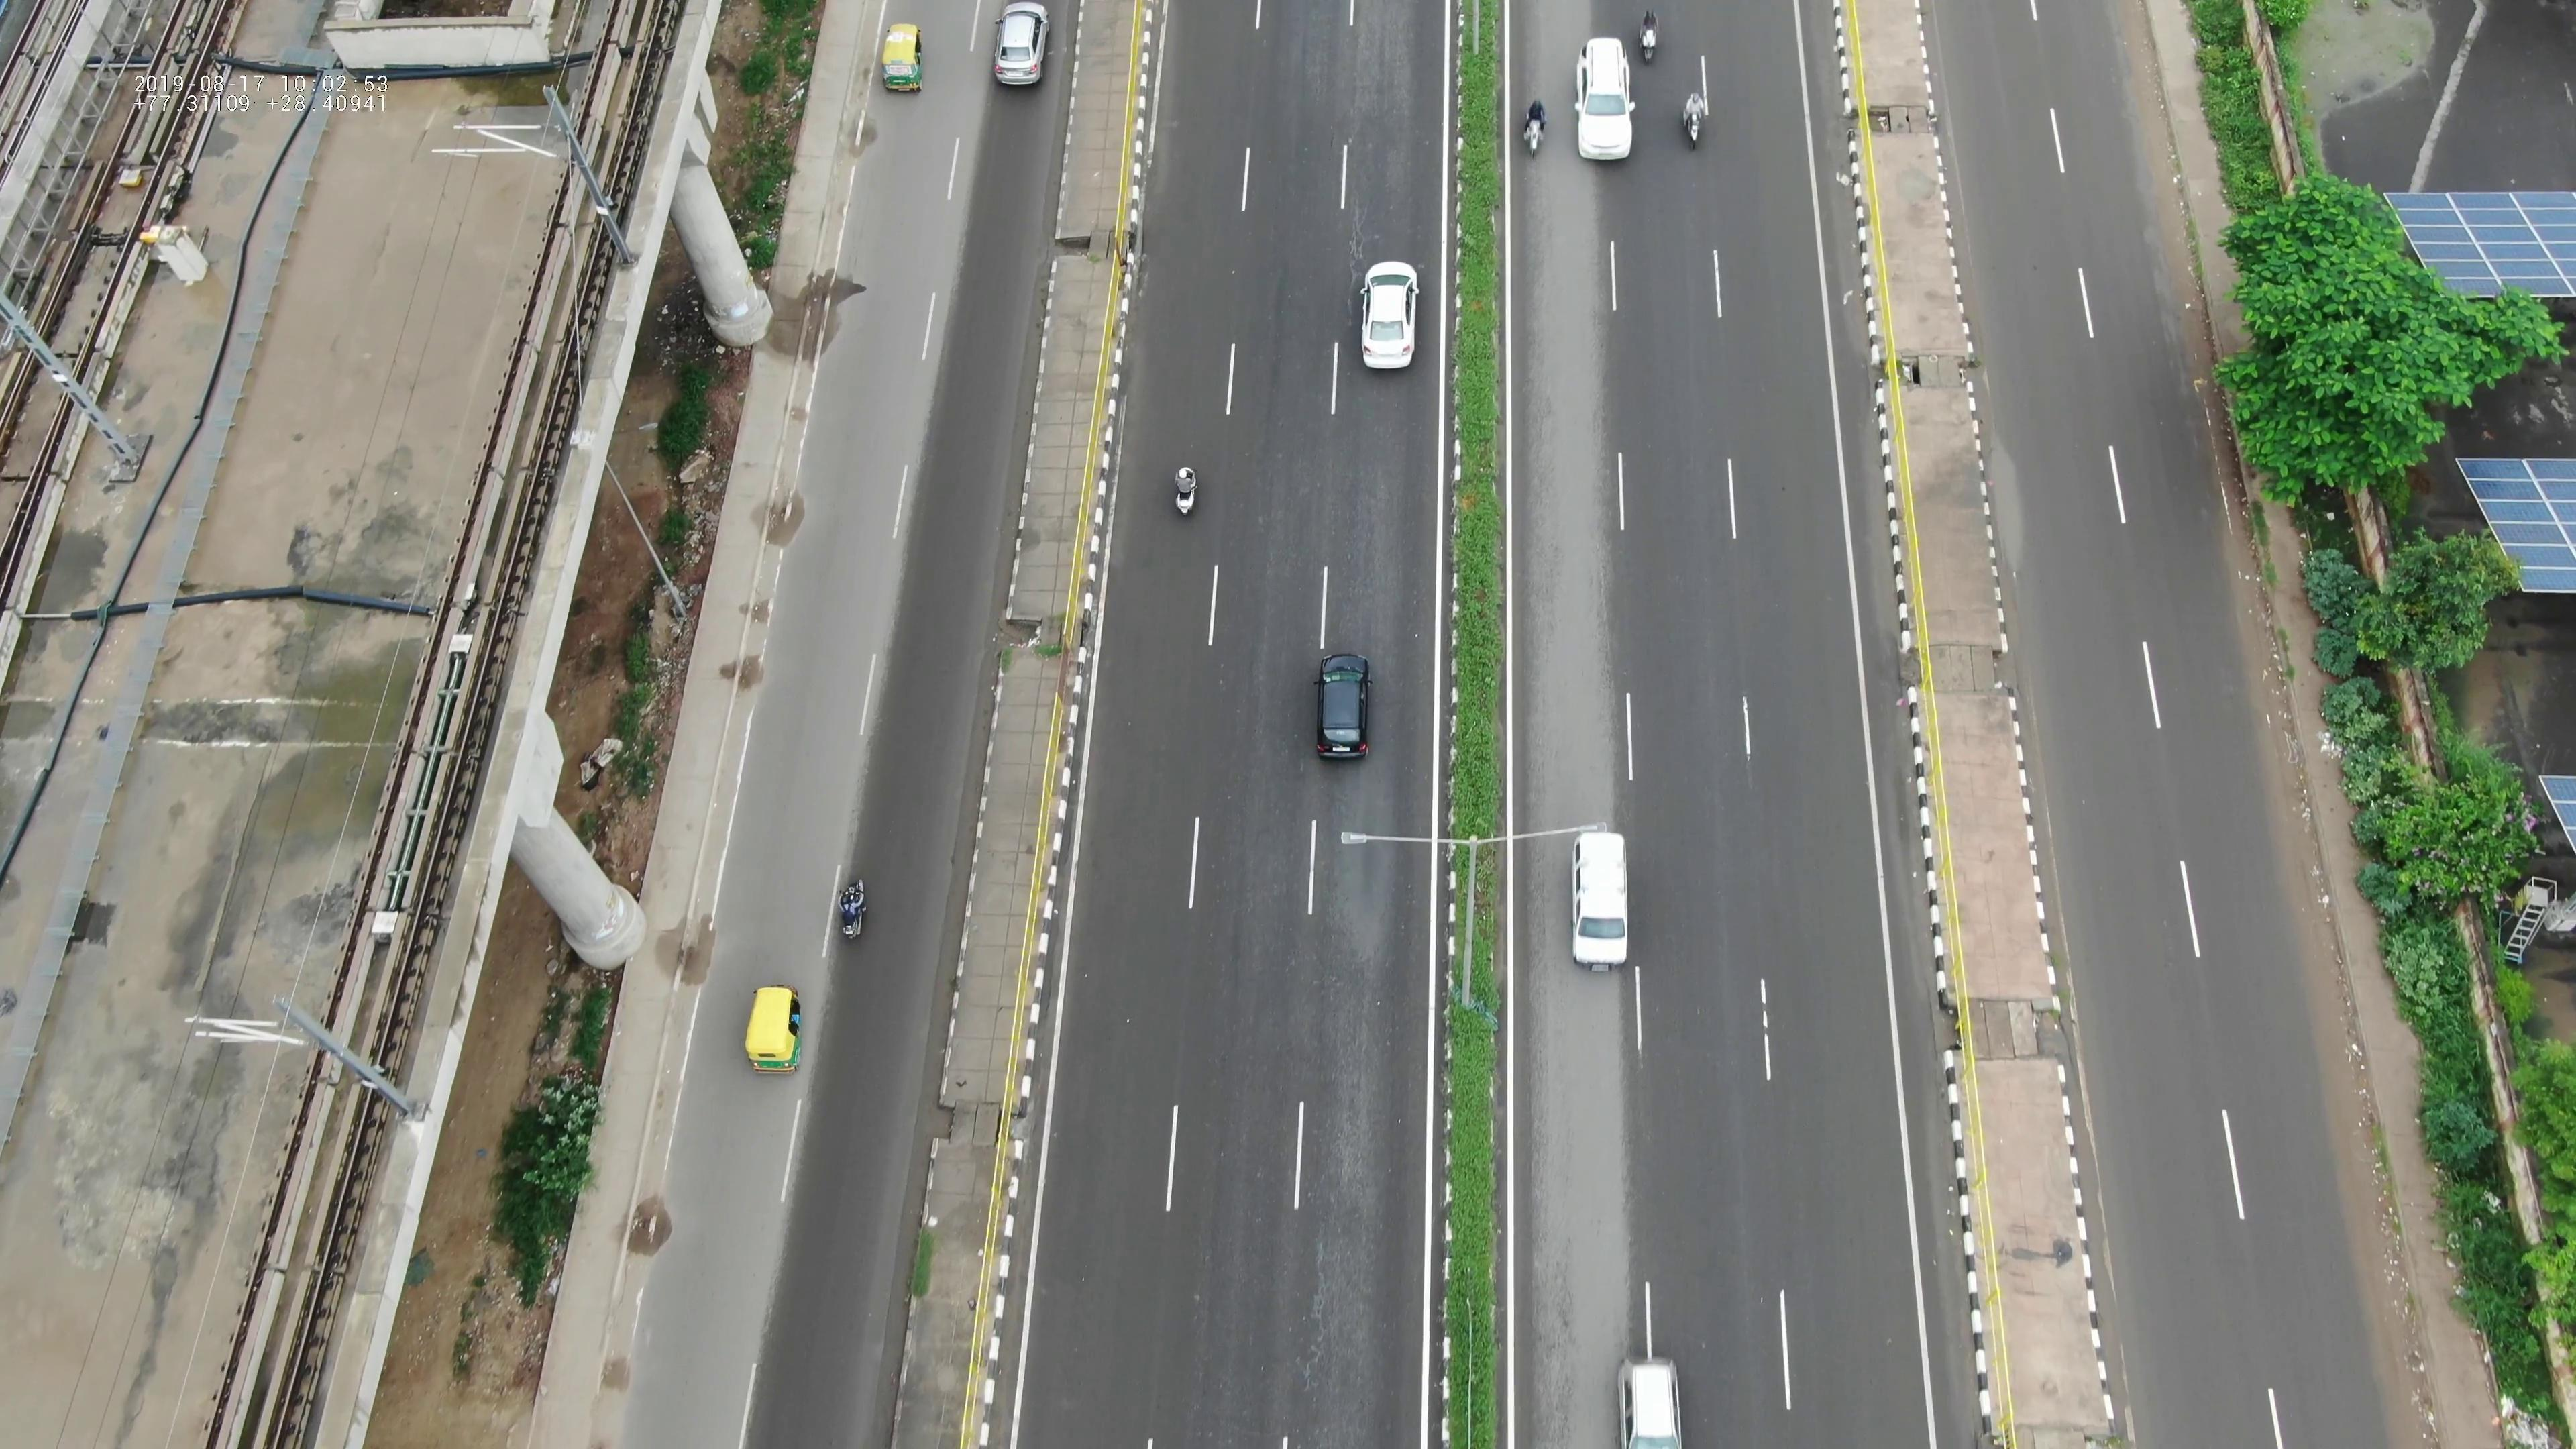Muddy_road: (2296, 936, 2388, 1230), (2102, 9, 2181, 211), (2229, 593, 2302, 814)
